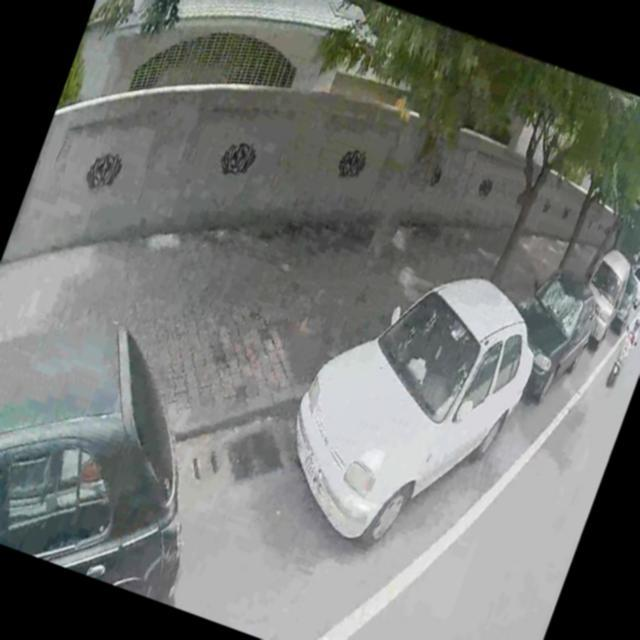person: (625, 316, 640, 341)
